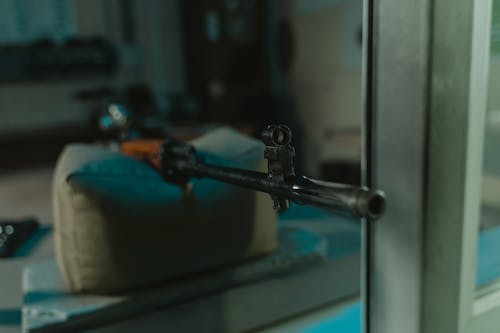gun: (96, 101, 389, 224)
